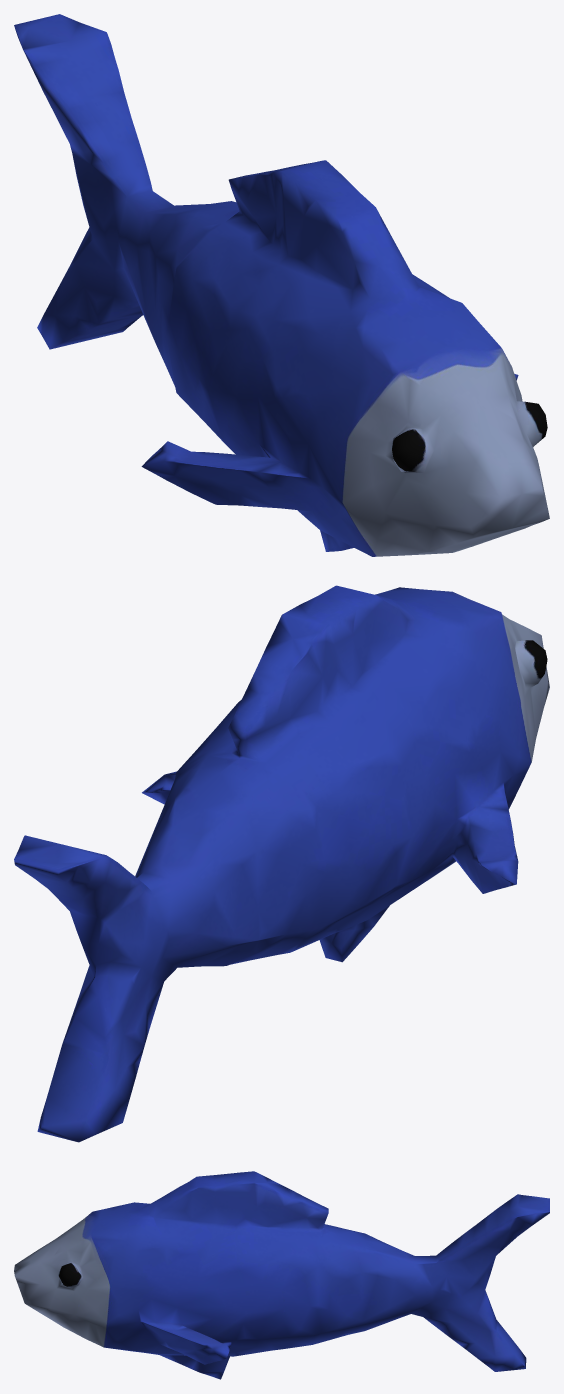
The model's file is tripo_convert_adf81053-1af4-41f8-b958-840abef45dec.fbx.
3 renders of one model, top to bottom at view 1: azimuth 30°, elevation 25°; view 2: azimuth 150°, elevation 25°; view 3: azimuth 270°, elevation 25°, orthographic. The views are drawn at different scales.
Visible parts, largest first — view 1: tripo_node_adf81053; view 2: tripo_node_adf81053; view 3: tripo_node_adf81053.
Boxes of the visible parts, x1,y1,x2,y2 form: tripo_node_adf81053: (14, 14, 549, 556); tripo_node_adf81053: (14, 585, 549, 1142); tripo_node_adf81053: (14, 1171, 549, 1379).
Size of the model in its own units: 0.4469 by 0.4126 by 1.
Materials: 1 (1 with a texture image).
